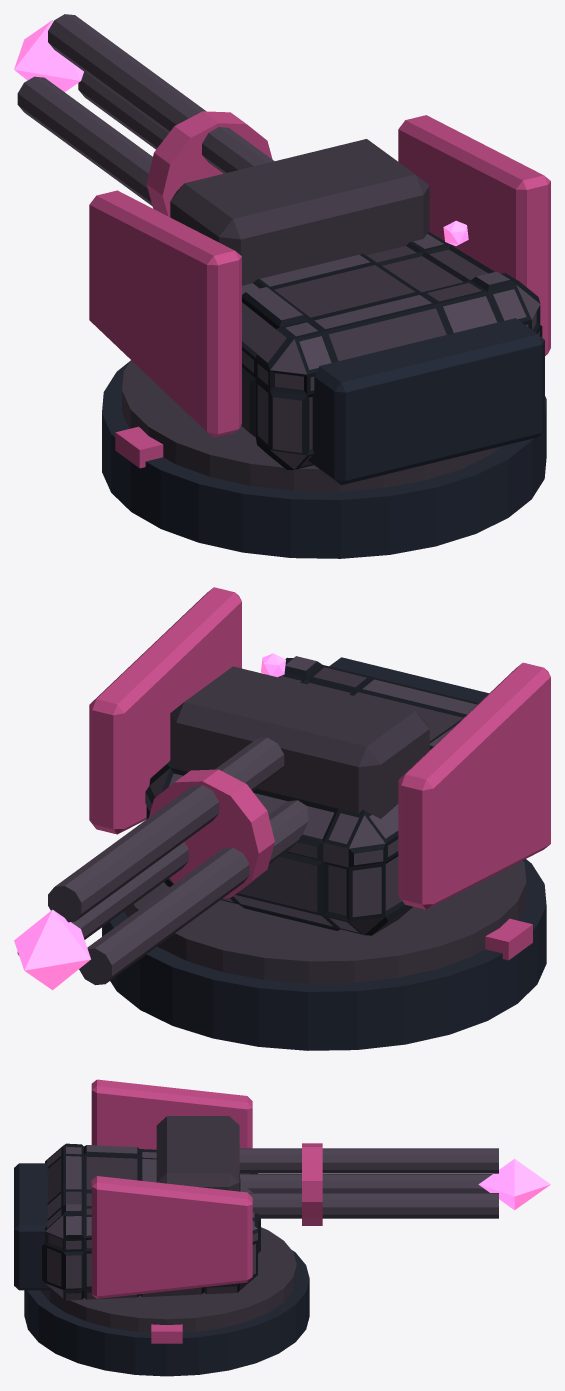
The model's file is turret_prism_cannons.glb.
3 renders of one model, top to bottom at view 1: azimuth 30°, elevation 25°; view 2: azimuth 150°, elevation 25°; view 3: azimuth 270°, elevation 25°, orthographic. The views are drawn at different scales.
Visible parts, largest first — view 1: Yaw_mesh, Pitch_mesh, Base_mesh; view 2: Yaw_mesh, Pitch_mesh, Base_mesh; view 3: Yaw_mesh, Pitch_mesh, Base_mesh.
Boxes of the visible parts, x1,y1,x2,y2 form: Yaw_mesh: (89, 115, 550, 485); Pitch_mesh: (14, 14, 429, 285); Base_mesh: (102, 360, 546, 558); Yaw_mesh: (89, 587, 550, 935); Pitch_mesh: (14, 666, 429, 990); Base_mesh: (102, 859, 546, 1050); Yaw_mesh: (14, 1079, 260, 1300); Pitch_mesh: (156, 1116, 550, 1225); Base_mesh: (24, 1227, 309, 1376).
Bounding box in the file's own units: 1.12 × 0.7876 × 2.07.
